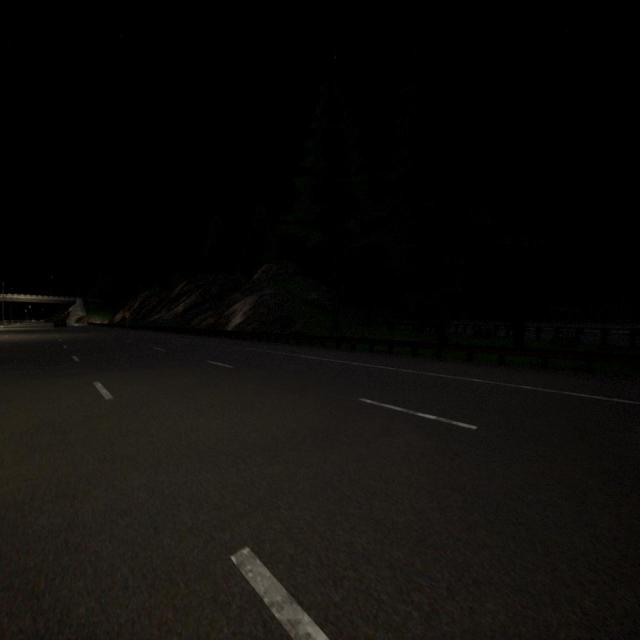Traffic_Signs: (125, 312, 129, 318)
Vehicle: (53, 319, 68, 328)
